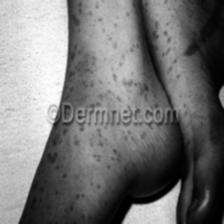Toxin: (76, 0, 146, 102), (152, 0, 210, 98), (55, 133, 142, 180), (207, 117, 224, 145)
